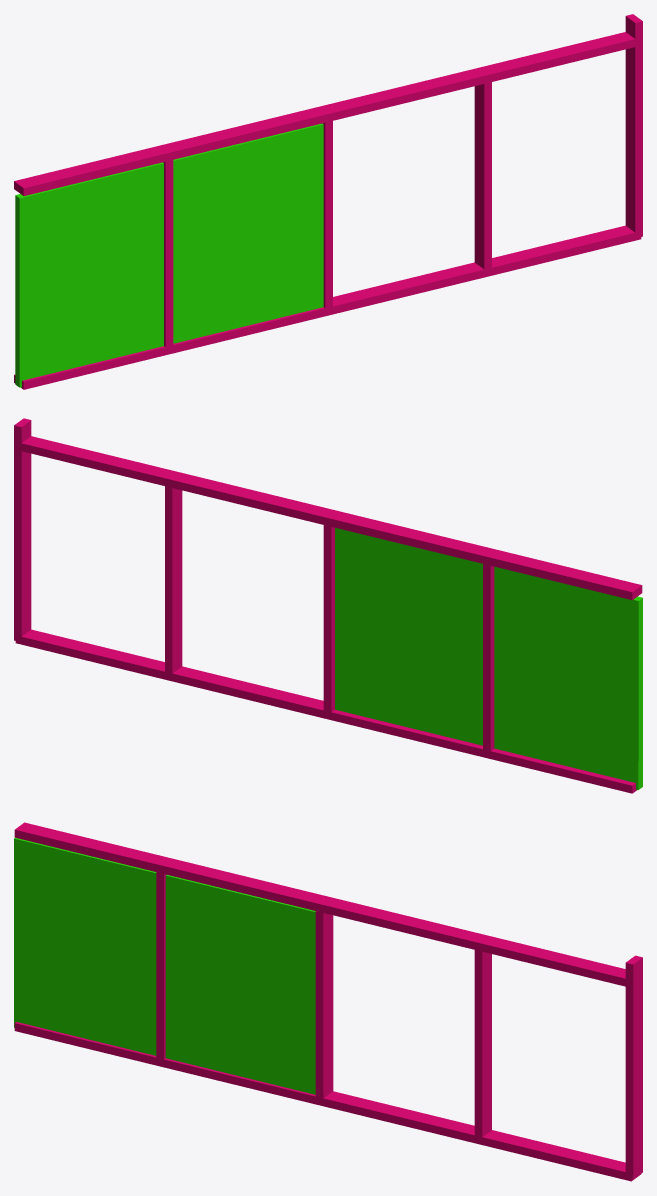
Rendered from House_Wood_Debris_01.fbx.
3 views of the same model, one above another, from view 1: azimuth 30°, elevation 25°; view 2: azimuth 150°, elevation 25°; view 3: azimuth 330°, elevation 25° (orthographic).
Visible parts, largest first — view 1: House_Wood_Debris_01; view 2: House_Wood_Debris_01; view 3: House_Wood_Debris_01.
Part boxes in pixels (bbox=[...]): House_Wood_Debris_01: bbox=[14, 14, 642, 389]; House_Wood_Debris_01: bbox=[14, 418, 642, 793]; House_Wood_Debris_01: bbox=[14, 822, 642, 1181].
Bounding box in the file's own units: 345 × 115 × 9.45.
